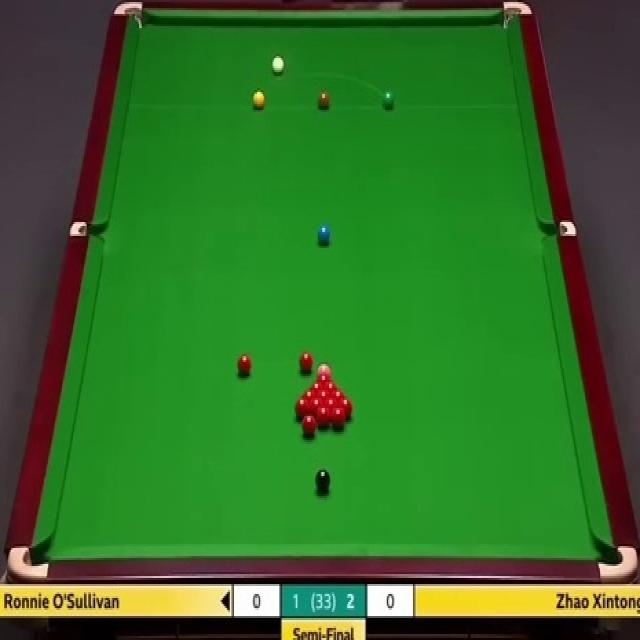pocket: (5, 538, 50, 580), (596, 543, 637, 579), (111, 0, 145, 32), (501, 0, 531, 32), (539, 221, 575, 237), (70, 222, 102, 236)
